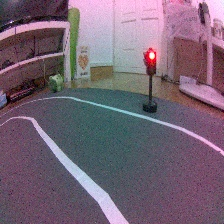red: (140, 47, 160, 114)
